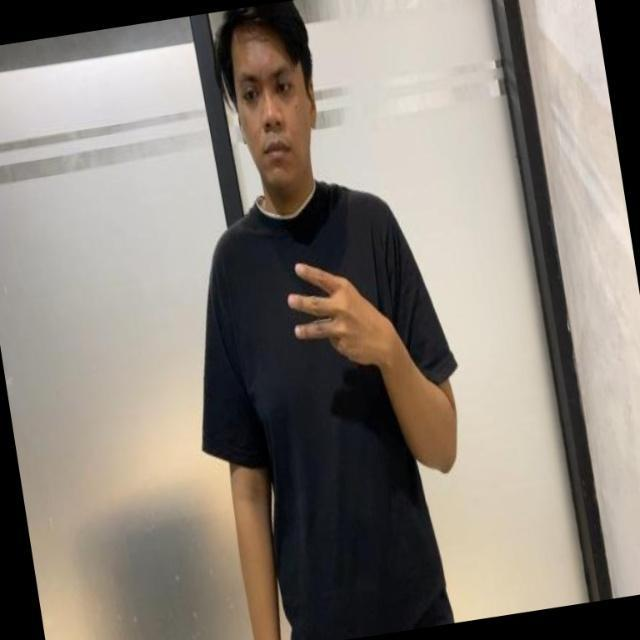E: (280, 255, 404, 372)
